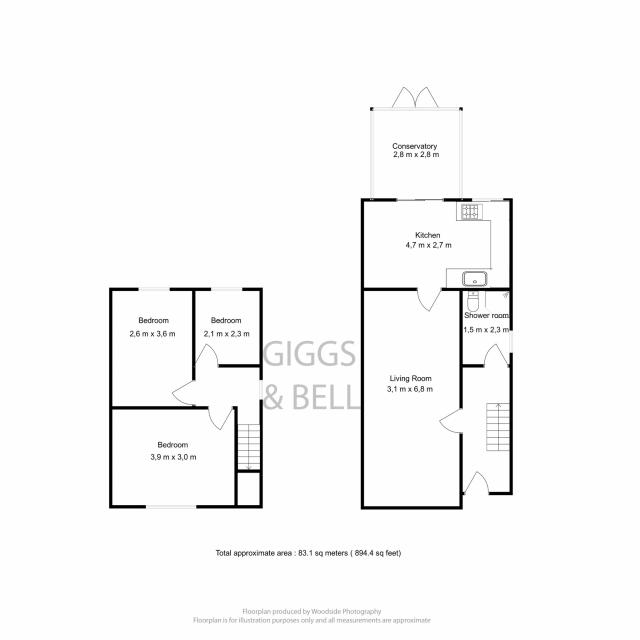DOOR: (482, 342, 509, 368), (207, 406, 234, 432), (170, 379, 196, 406), (438, 407, 463, 435), (463, 470, 490, 495), (416, 287, 443, 312), (194, 343, 219, 368)
ROOM: (360, 287, 463, 510), (361, 198, 513, 313), (109, 406, 238, 509), (109, 287, 196, 410), (192, 287, 263, 368)
SLIDING DOOR: (470, 198, 510, 203), (395, 198, 444, 202)
WINDOW: (145, 504, 198, 509), (138, 287, 170, 292), (210, 287, 243, 291), (509, 330, 513, 353), (259, 380, 263, 400)
